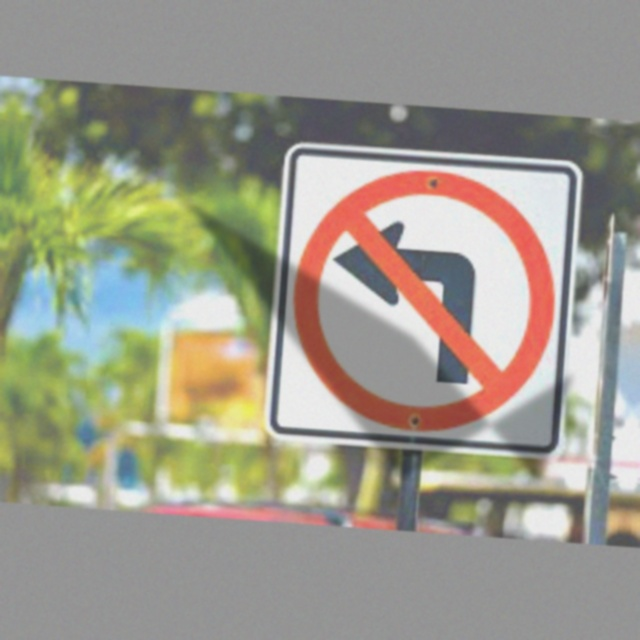Left_Turn_Prohibited: (283, 159, 570, 448)
